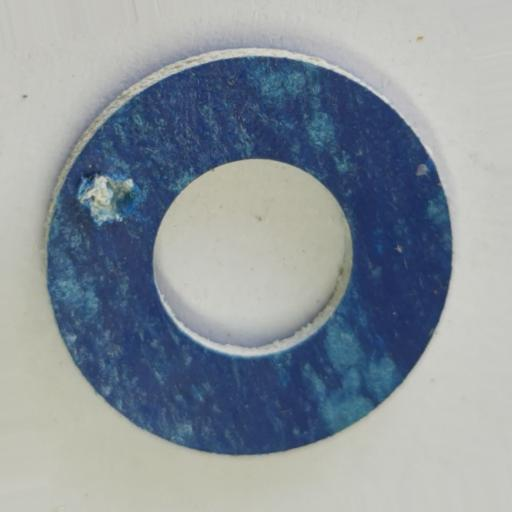defect: (78, 173, 141, 225)
